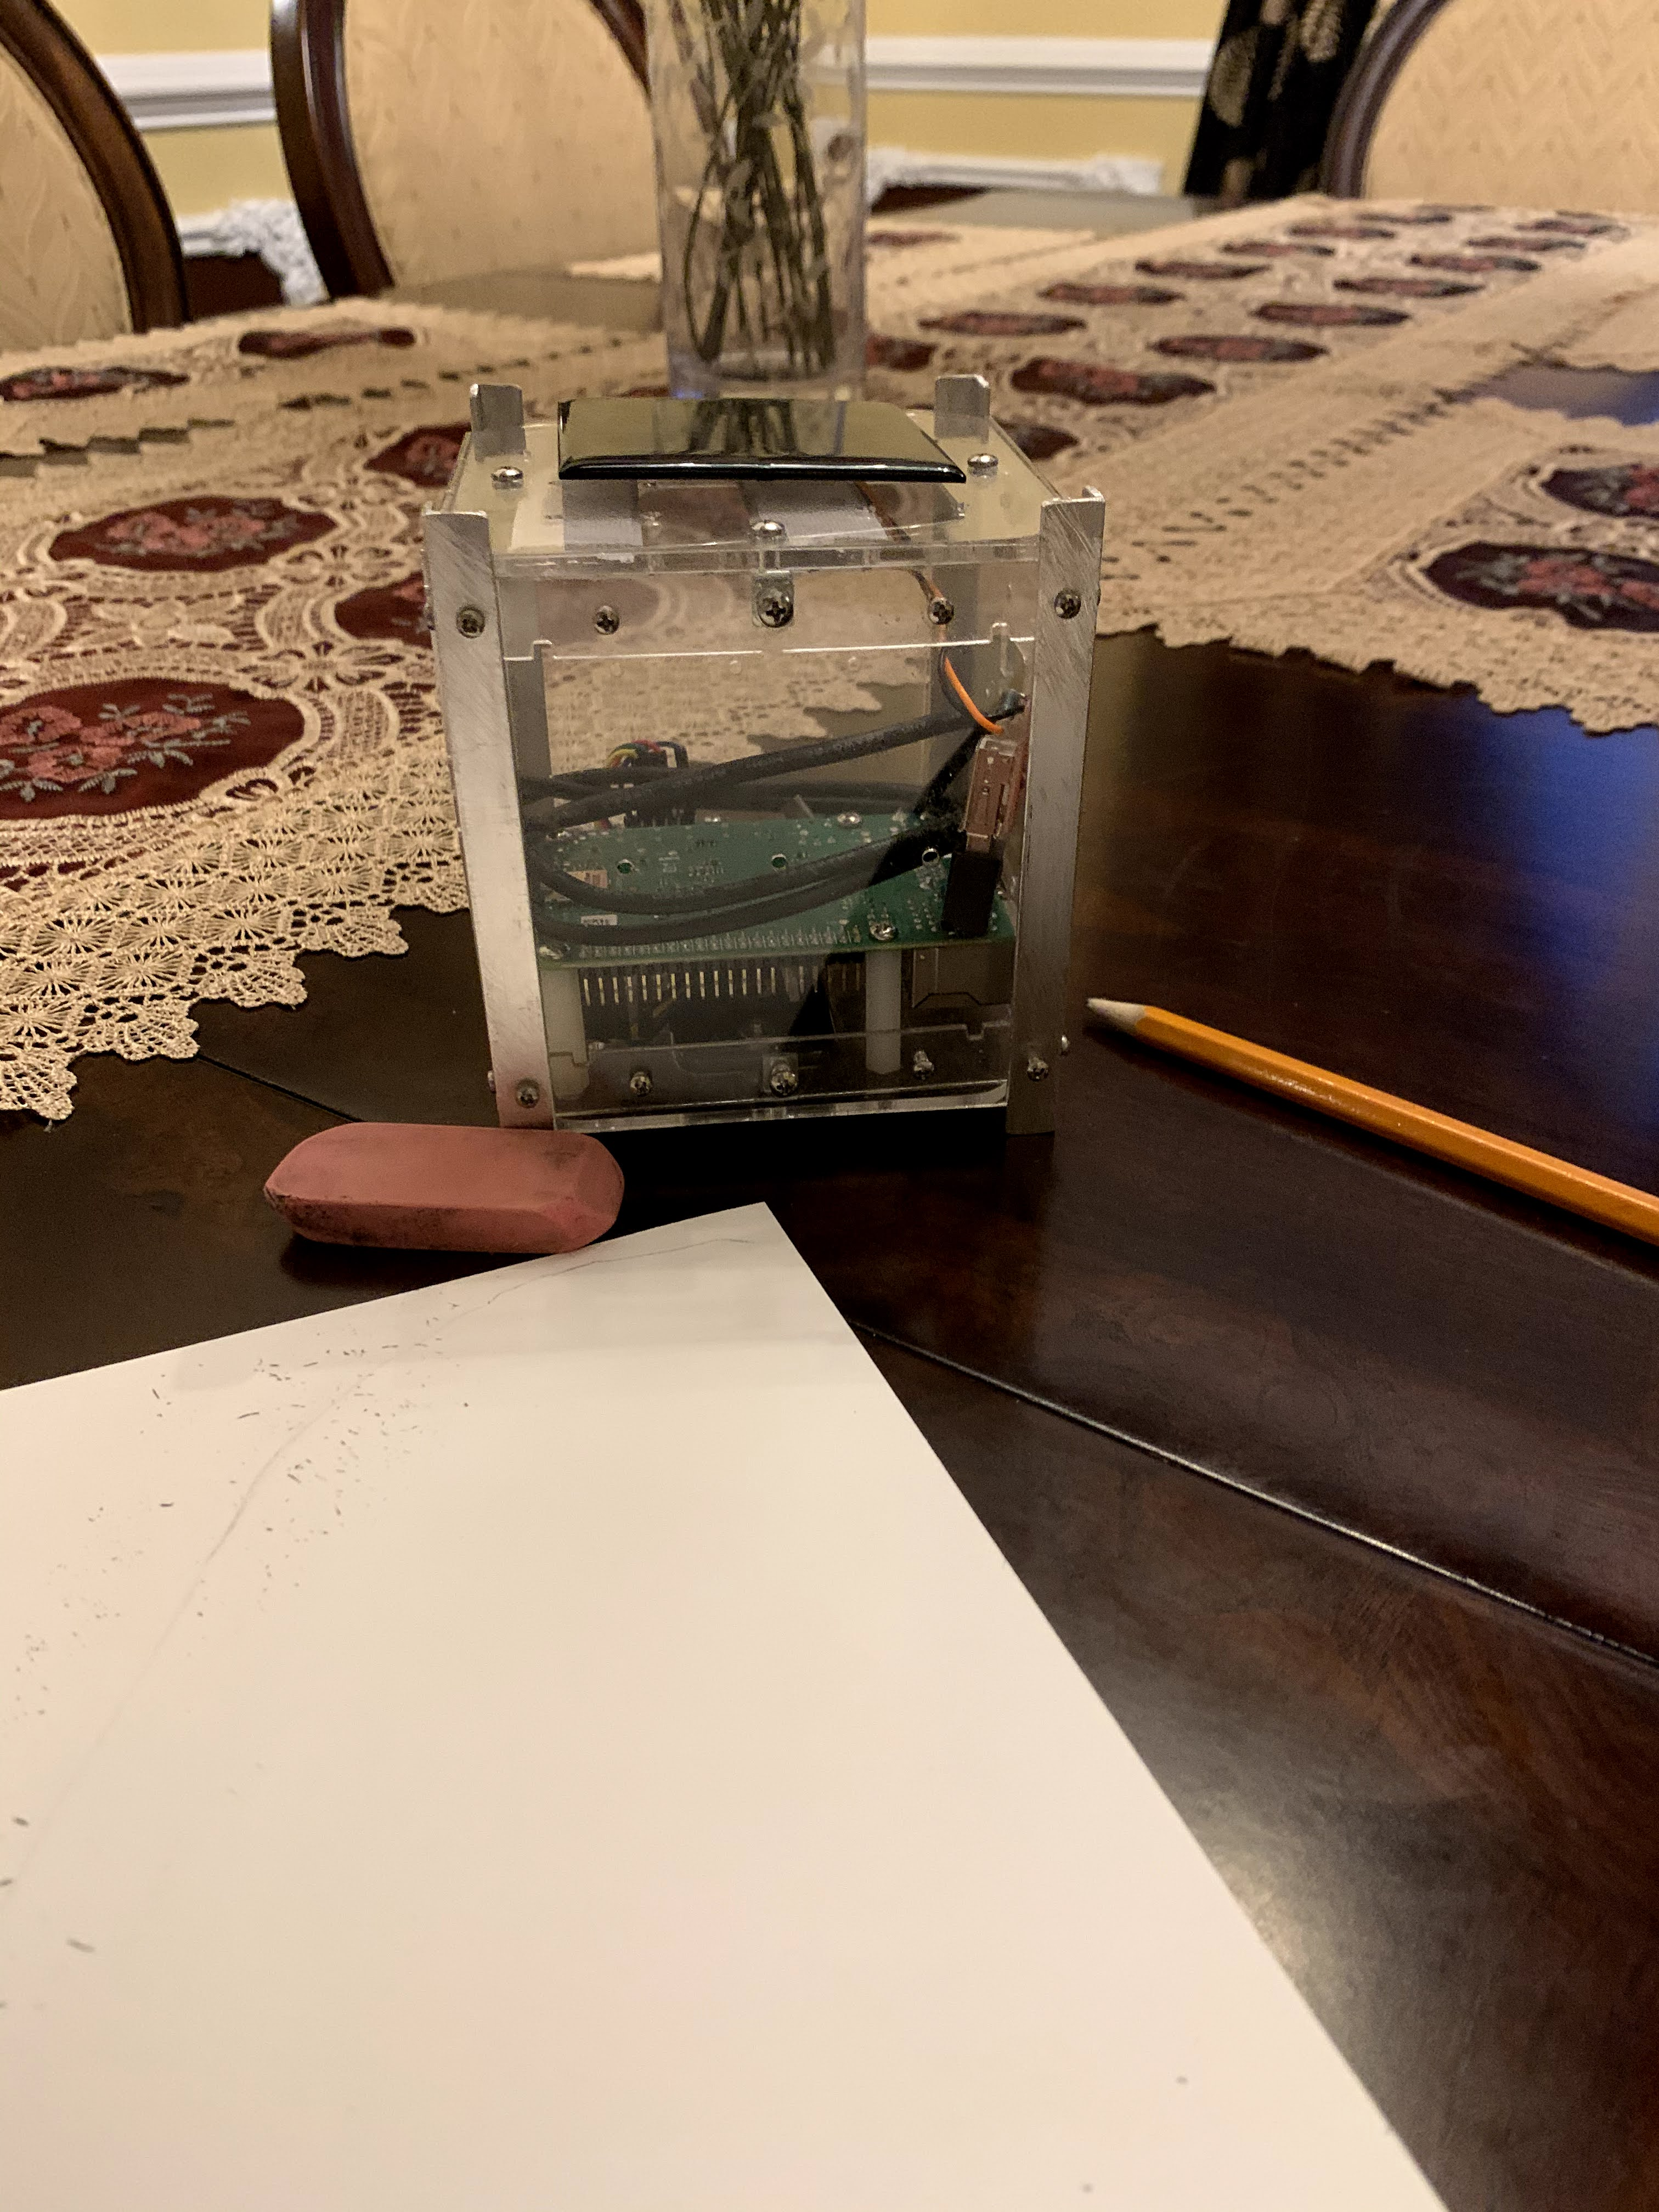Space-debris-cubesat: (429, 369, 1119, 1122)
